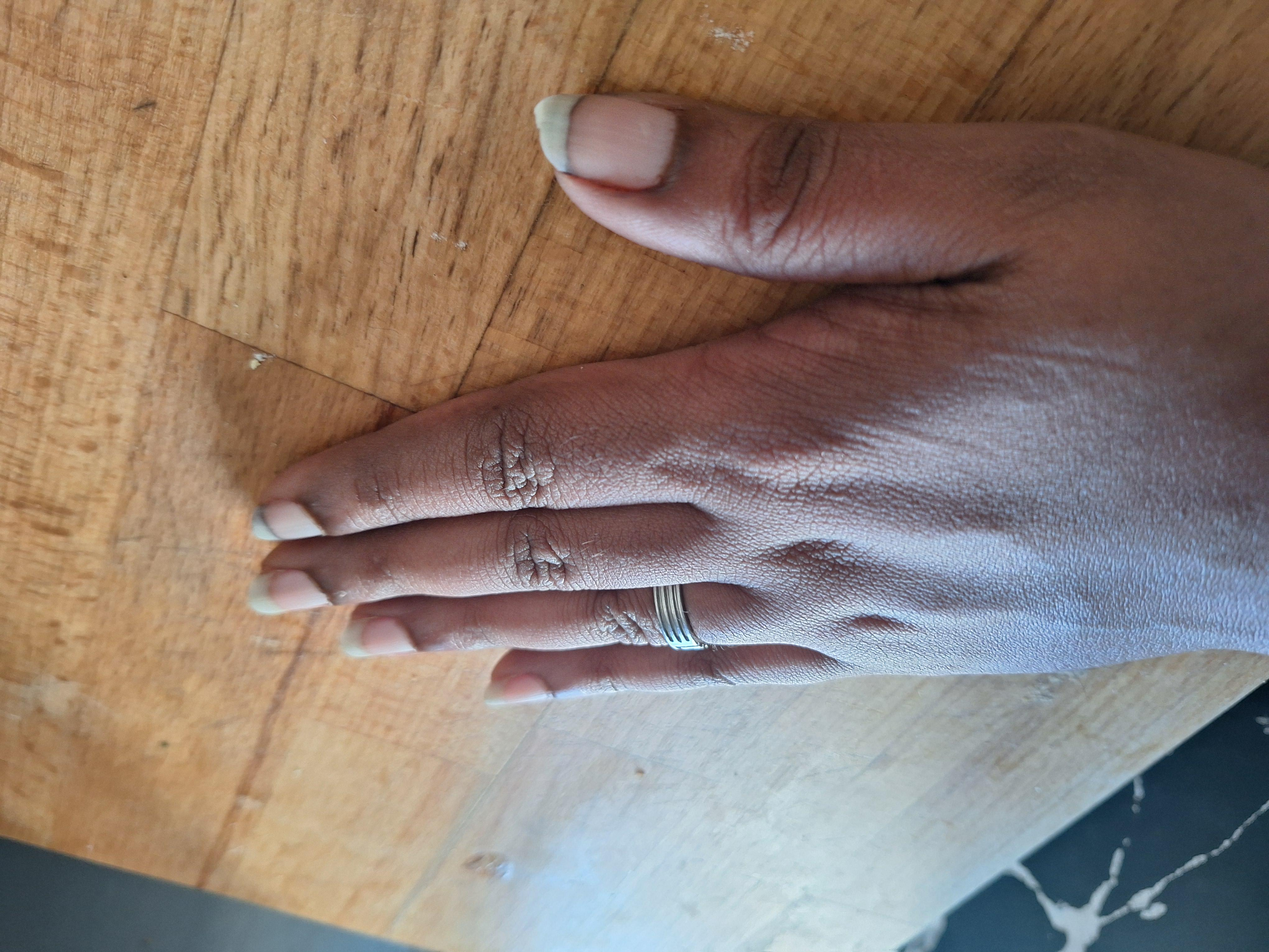Fingernail: (534, 94, 677, 188), (249, 571, 327, 614), (341, 617, 414, 658), (250, 501, 321, 543), (485, 675, 550, 705)
